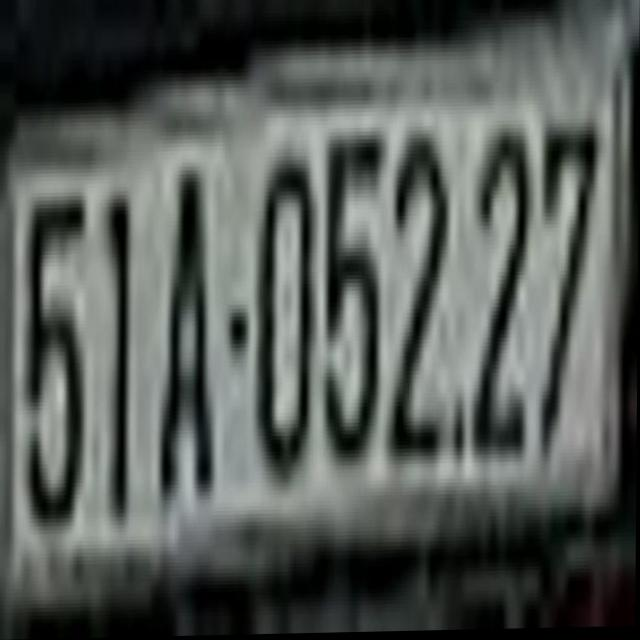0: (255, 127, 311, 488)
1: (106, 172, 134, 538)
2: (471, 123, 530, 484), (390, 124, 447, 485)
5: (28, 180, 89, 542), (323, 113, 384, 471)
7: (538, 102, 601, 487)
A: (155, 140, 218, 517)
